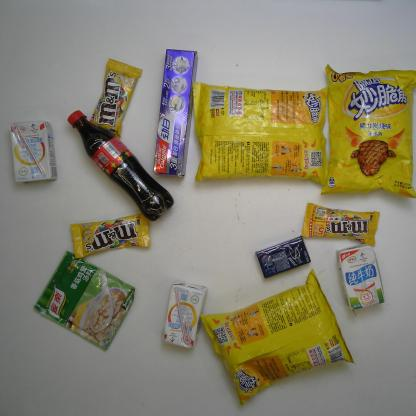Chocolate: (83, 55, 145, 139), (68, 209, 158, 259), (300, 201, 384, 248)
Drink: (68, 109, 175, 222)
Gum: (256, 233, 314, 278)
Milk: (334, 242, 386, 313), (161, 278, 209, 350), (7, 118, 59, 184)
Personal Hygiene: (148, 45, 202, 179)
Puffed Food: (200, 262, 357, 408), (190, 81, 338, 186), (320, 62, 415, 199)
Seasoner: (30, 249, 137, 351)
